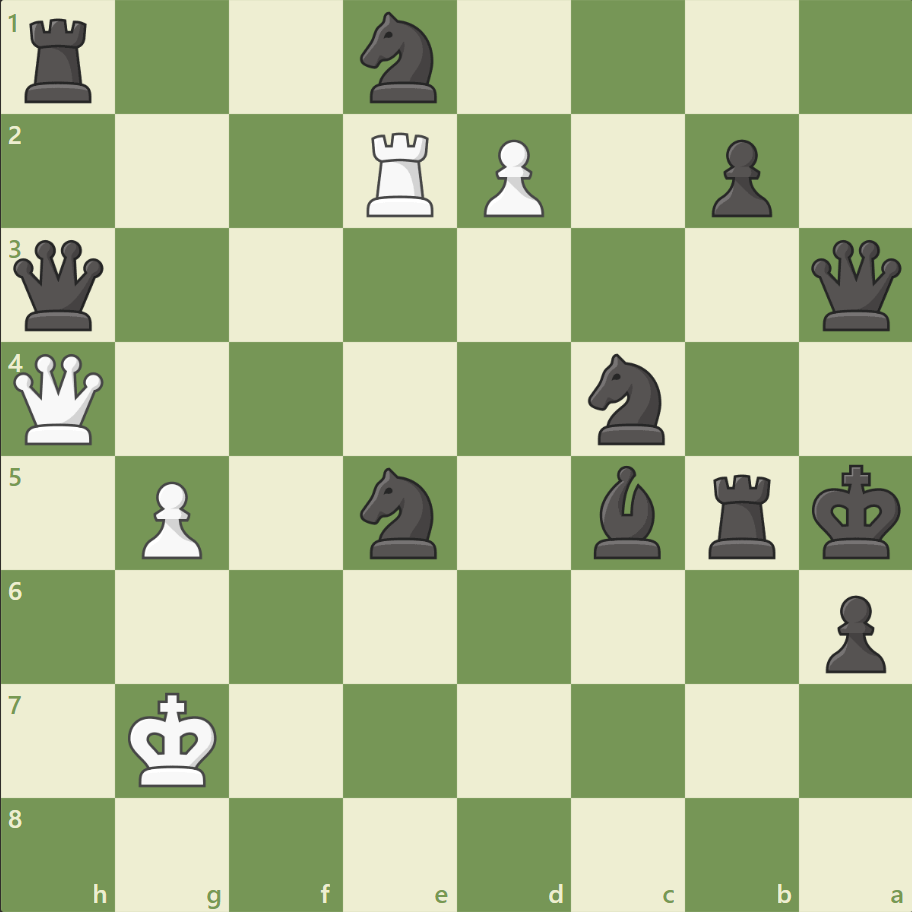K: (124, 685, 224, 793)
P: (133, 473, 208, 564), (474, 132, 549, 223)
Q: (10, 349, 109, 449)
R: (360, 125, 442, 222)
b: (585, 460, 669, 563)
k: (806, 458, 906, 566)
n: (351, 461, 449, 564), (351, 7, 449, 110), (579, 348, 676, 450)
p: (701, 132, 776, 223), (815, 586, 889, 677)
q: (805, 236, 904, 335), (10, 236, 109, 335)
r: (700, 466, 783, 563), (19, 12, 102, 109)
